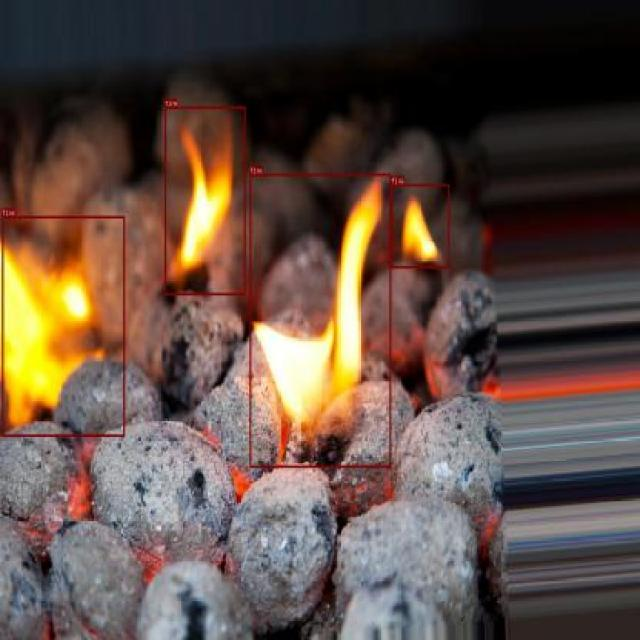Fire: (249, 173, 391, 467), (1, 216, 124, 436), (164, 107, 245, 296), (390, 184, 450, 268)
